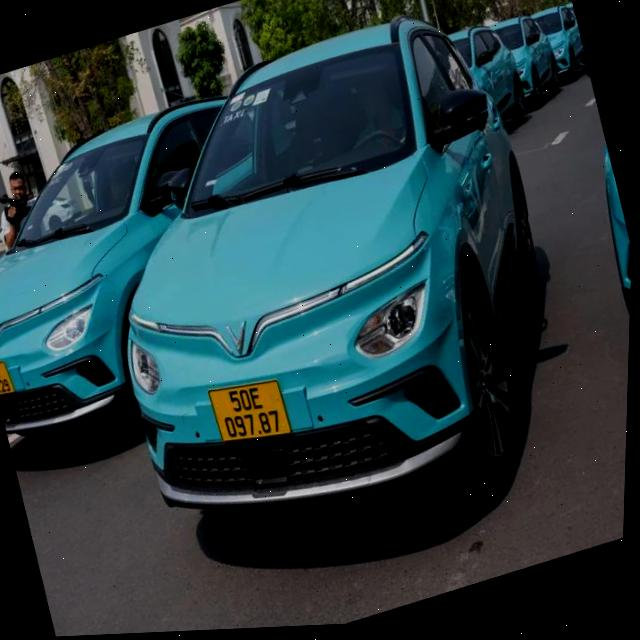car: (47, 0, 625, 589), (0, 70, 322, 457), (457, 1, 585, 132)
plate: (199, 364, 298, 459), (0, 354, 20, 405)
